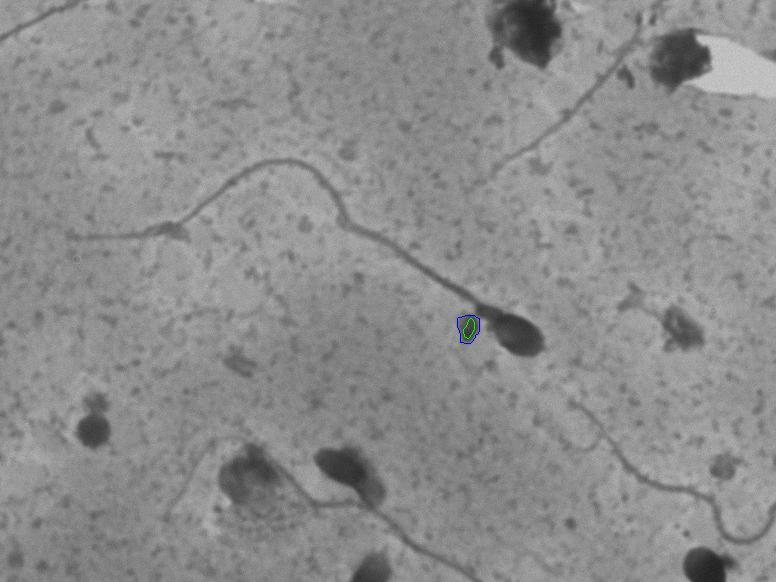Abnormal: (95, 144, 568, 365)
